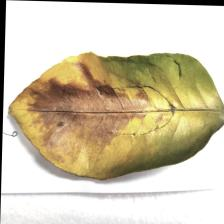black spot: (38, 72, 134, 155)
